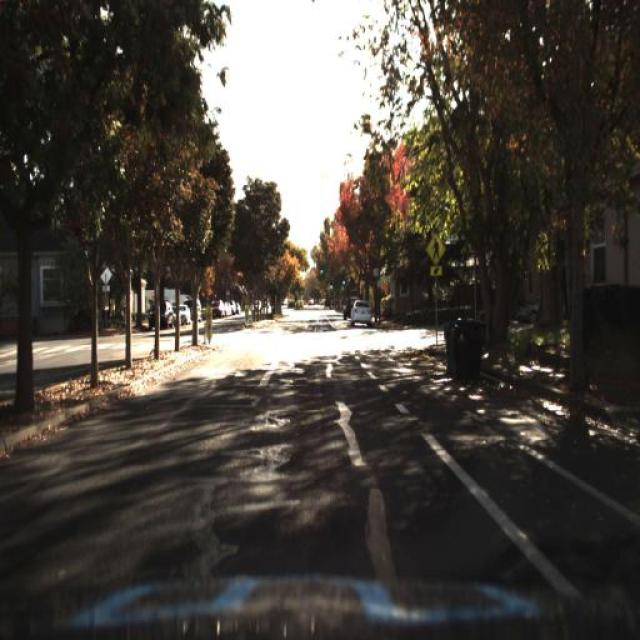car: (513, 293, 542, 329), (518, 295, 540, 327), (146, 304, 172, 328), (352, 300, 373, 326), (178, 302, 188, 324), (342, 296, 351, 320)
trafficLight-GreenLeft: (315, 262, 326, 287), (341, 275, 352, 294), (326, 272, 334, 296), (339, 269, 348, 289), (327, 279, 335, 293)
